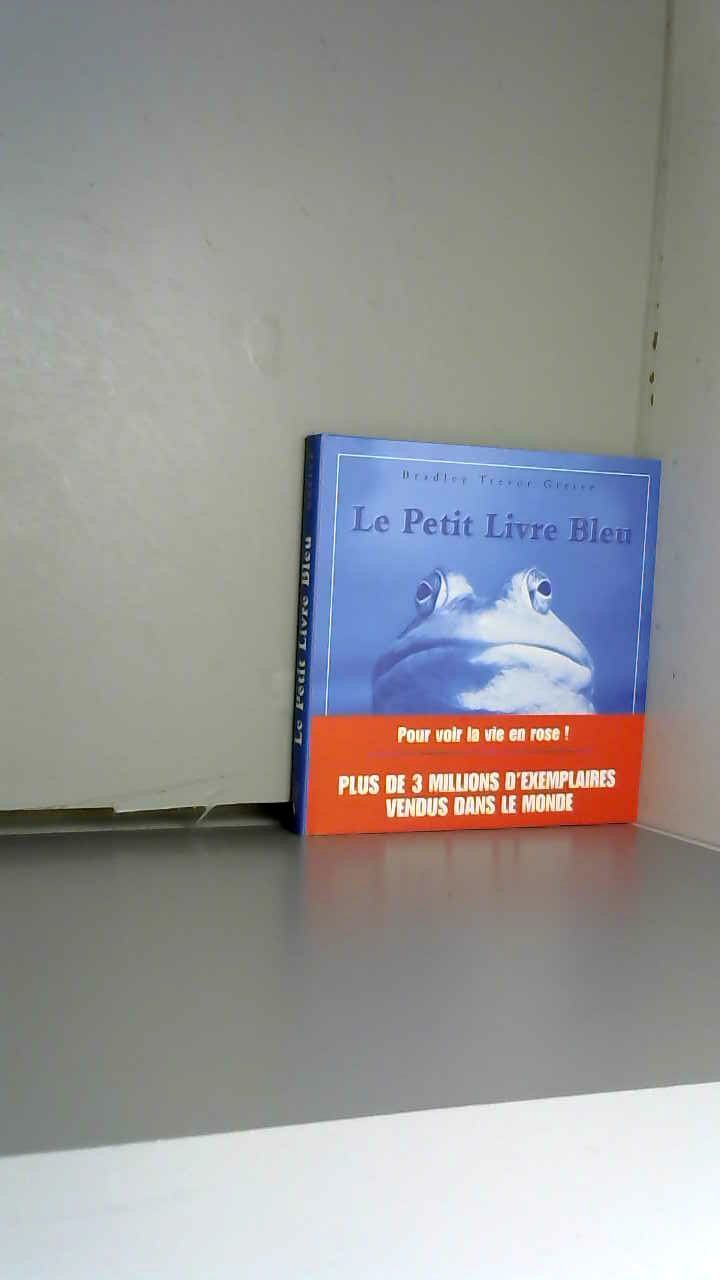book: (279, 415, 675, 855)
